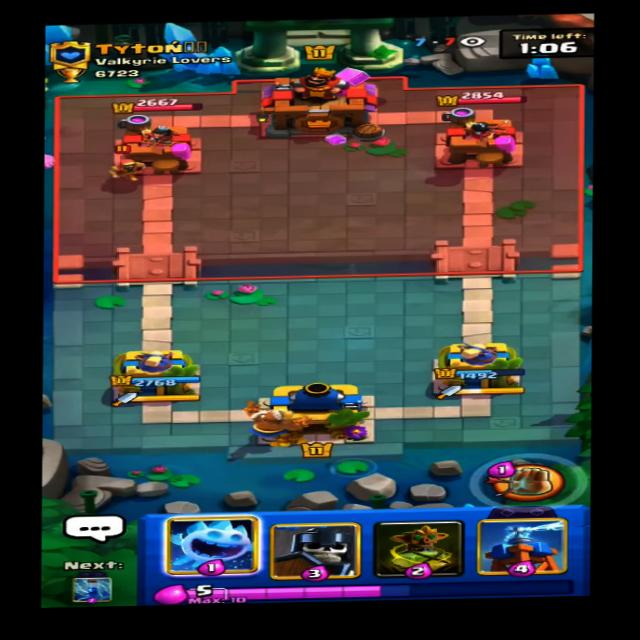wizard: (104, 143, 150, 181)
